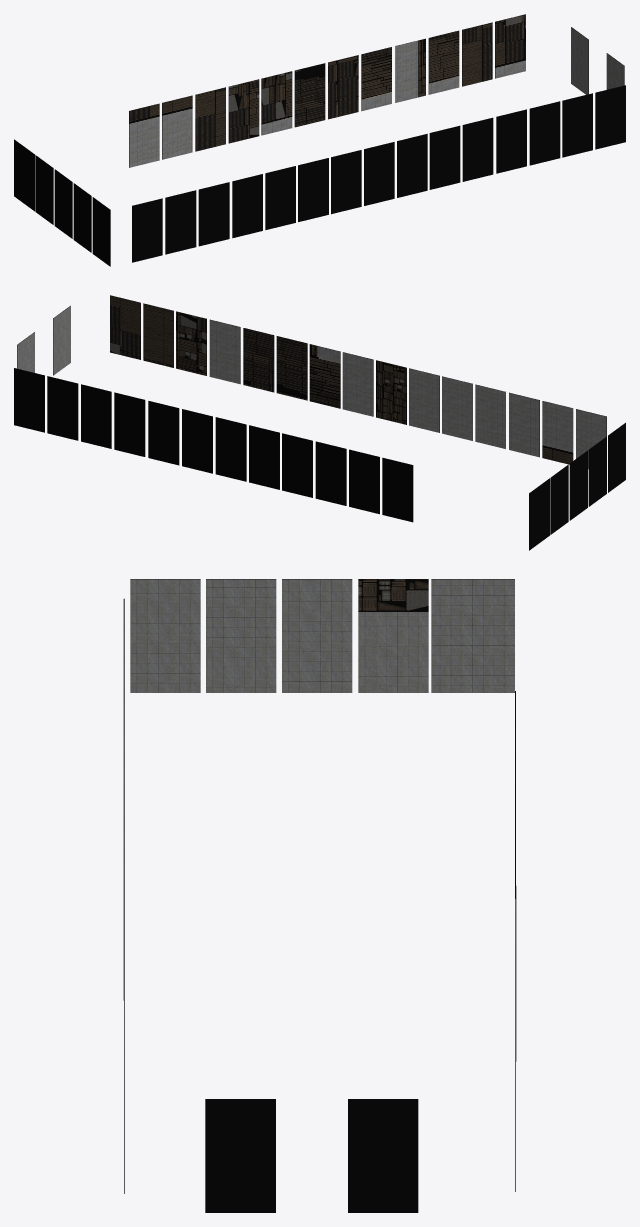
File: MeshBaker (3)-mesh-mesh.FBX
The picture shows the model from 3 angles, top to bottom: view 1: azimuth 30°, elevation 25°; view 2: azimuth 150°, elevation 25°; view 3: azimuth 270°, elevation 25°; orthographic projection. The views are drawn at different scales.
Visible parts, largest first — view 1: MeshBaker__3__mesh_mesh; view 2: MeshBaker__3__mesh_mesh; view 3: MeshBaker__3__mesh_mesh.
Boxes of the visible parts, x1,y1,x2,y2 form: MeshBaker__3__mesh_mesh: [14, 14, 625, 266]; MeshBaker__3__mesh_mesh: [14, 295, 625, 550]; MeshBaker__3__mesh_mesh: [123, 579, 516, 1212].
Bounding box in the file's own units: 11.87 × 1.21 × 3.78.
